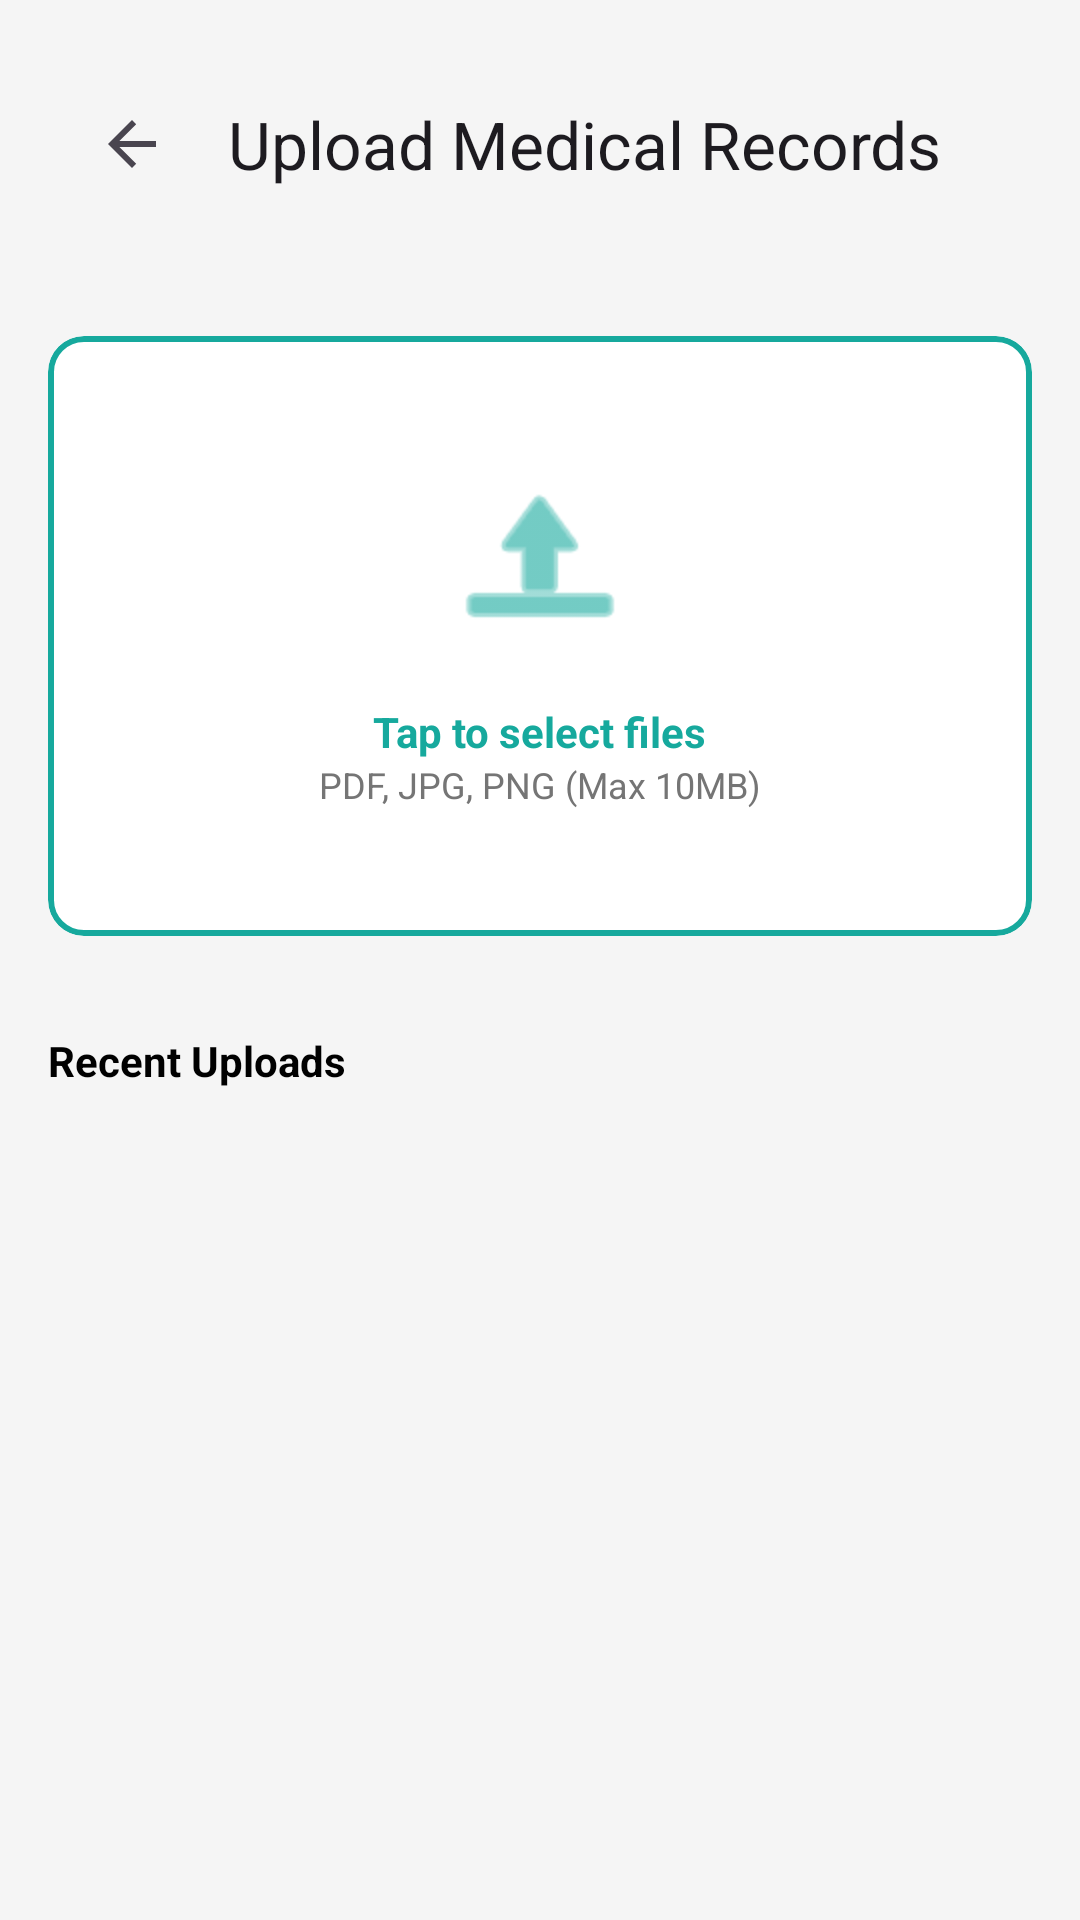

Icon click points for this 1080*1920 phone screenshot, format (x,y):
upload: (540,556)
